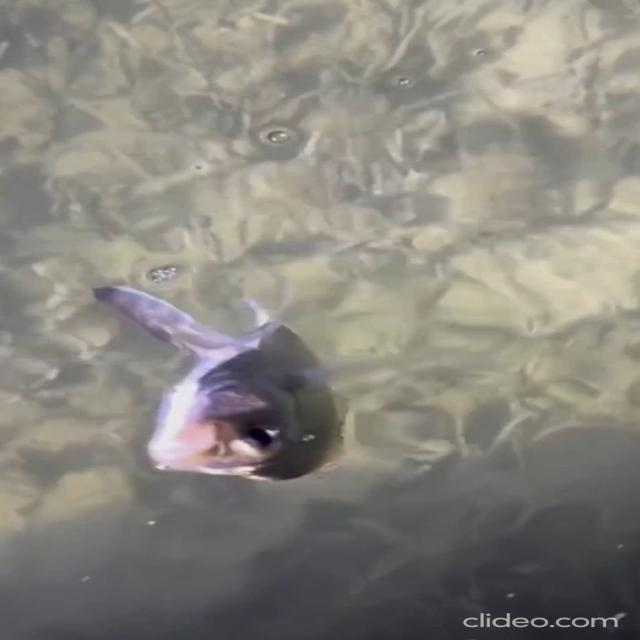fish: (90, 268, 372, 497)
